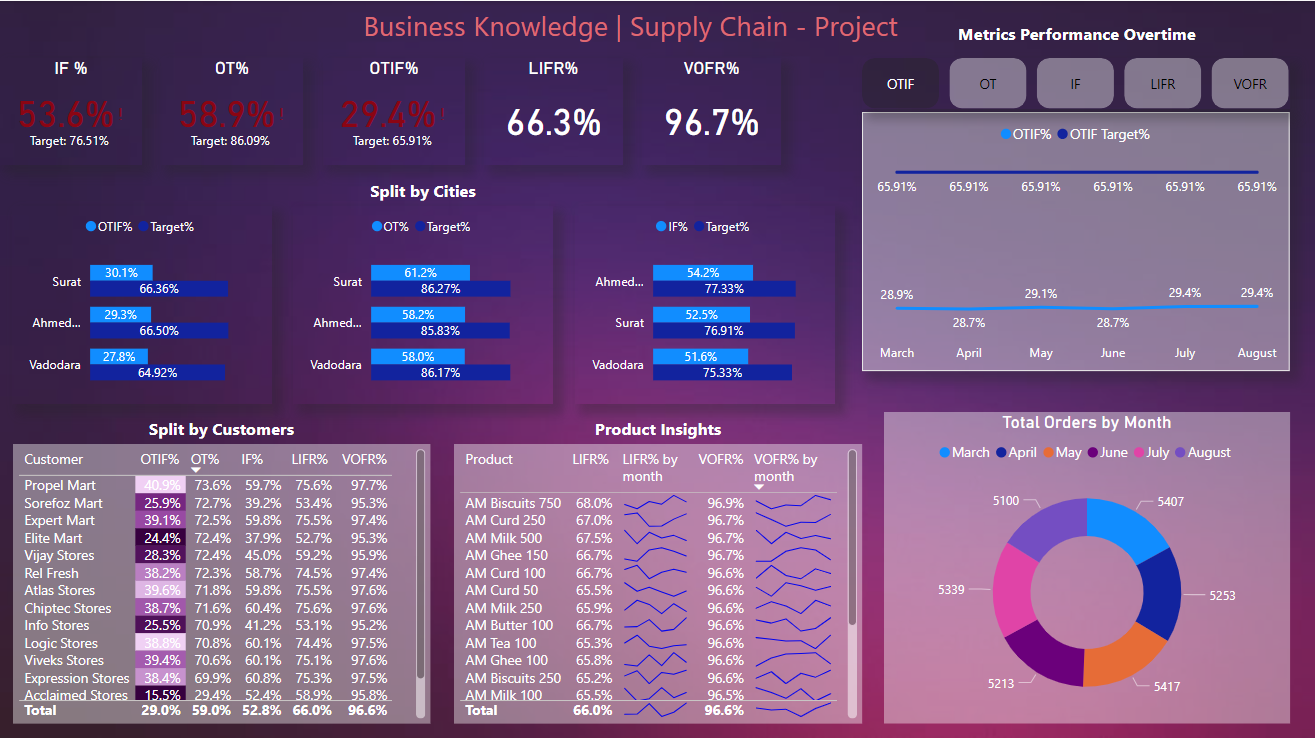

Layout of this report page (visuals, bound fields, positions):
{"tool":"powerbi","page":{"name":"Page 1","canvas":[1280,720],"ordinal":0},"visuals":[{"type":"kpi","title":"OT%","fields":{"Indicator":["Measure.OT%"],"Goal":["Measure.On Time Target"],"TrendLine":["dim_date.mmm_yy"]},"box":[156.8,55.4,138.1,104.1],"z":0},{"type":"kpi","title":"IF %","fields":{"Goal":["Measure.In Full Target"],"TrendLine":["dim_date.mmm_yy"],"Indicator":["Measure.IF%"]},"box":[0,55.4,138.1,104.1],"z":1000},{"type":"kpi","title":"OTIF%","fields":{"Goal":["Measure.On Time In Full Target"],"TrendLine":["dim_date.mmm_yy"],"Indicator":["Measure.OTIF%"]},"box":[313.7,55.4,138.1,104.1],"z":2000},{"type":"kpi","title":"LIFR%","fields":{"TrendLine":["dim_date.mmm_yy"],"Indicator":["Measure.LIFR%"]},"box":[470.5,55.4,135.2,104.1],"z":3000},{"type":"kpi","title":"VOFR%","fields":{"TrendLine":["dim_date.mmm_yy"],"Indicator":["Measure.VOFR%"]},"box":[624.4,55.4,135.2,104.1],"z":4000},{"type":"clusteredBarChart","fields":{"Category":["dim_customers.city"],"Y":["Measure.OTIF%","Measure.On Time In Full Target"]},"box":[11.7,199.4,252.9,192.6],"z":5000},{"type":"clusteredBarChart","fields":{"Category":["dim_customers.city"],"Y":["Measure.OT%","Measure.On Time Target"]},"box":[285,199.4,252.9,192.6],"z":6000},{"type":"clusteredBarChart","fields":{"Category":["dim_customers.city"],"Y":["Measure.IF%","Measure.In Full Target"]},"box":[559.3,199.4,252.9,192.6],"z":7000},{"type":"tableEx","fields":{"Values":["dim_customers.customer_name","Measure.OTIF%","Measure.OT%","Measure.IF%","Measure.LIFR%","Measure.VOFR%"]},"box":[12.6,430.9,405.6,272.3],"z":8000},{"type":"tableEx","fields":{"Values":["dim_products.product_name","Measure.LIFR%","SparklineData(Measure.LIFR%_[dim_date.mmm_yy])","Measure.VOFR%","SparklineData(Measure.VOFR%_[dim_date.mmm_yy])"]},"box":[441.6,430.9,396.8,272.3],"z":9000},{"type":"lineChart","fields":{"Category":["dim_date.mmm_yy.Variation.Date Hierarchy.Month"],"Y":["Measure.OTIF%","Measure.On Time In Full Target%"]},"box":[838.4,108,416.3,251.9],"z":10000},{"type":"bookmarkNavigator","box":[838.4,55.4,416.3,49.6],"z":15000},{"type":"textbox","box":[204.3,168.3,414.3,31.1],"z":16000},{"type":"textbox","box":[840.4,15.6,414.3,31.1],"z":17000},{"type":"textbox","box":[12.6,399.8,405.6,31.1],"z":18000},{"type":"textbox","box":[441.6,399.8,396.8,31.1],"z":19000},{"type":"donutChart","fields":{"Category":["dim_date.mmm_yy.Variation.Date Hierarchy.Month"],"Y":["Measure.Total Orders"]},"box":[859.8,399.8,394.9,303.5],"z":20000},{"type":"textbox","box":[12.6,0,1201.2,47.7],"z":21000}]}

Visuals, with their boxes in screenshot pixels (x1, y1, x2, y2), scaled from the page's 1280x720 canvas onto the 1315x738 screenshot:
"OT%" kpi: pyautogui.locateOnScreen(161, 57, 303, 163)
"IF %" kpi: pyautogui.locateOnScreen(0, 57, 142, 163)
"OTIF%" kpi: pyautogui.locateOnScreen(322, 57, 464, 163)
"LIFR%" kpi: pyautogui.locateOnScreen(483, 57, 622, 163)
"VOFR%" kpi: pyautogui.locateOnScreen(641, 57, 780, 163)
clusteredBarChart - dim_customers.city x Measure.OTIF%: pyautogui.locateOnScreen(12, 204, 272, 402)
clusteredBarChart - dim_customers.city x Measure.OT%: pyautogui.locateOnScreen(293, 204, 553, 402)
clusteredBarChart - dim_customers.city x Measure.IF%: pyautogui.locateOnScreen(575, 204, 834, 402)
tableEx - dim_customers.customer_name x Measure.OTIF%: pyautogui.locateOnScreen(13, 442, 430, 721)
tableEx - dim_products.product_name x Measure.LIFR%: pyautogui.locateOnScreen(454, 442, 861, 721)
lineChart - dim_date.mmm_yy.Variation.Date Hierarchy.Month x Measure.OTIF%: pyautogui.locateOnScreen(861, 111, 1289, 369)
bookmarkNavigator: pyautogui.locateOnScreen(861, 57, 1289, 108)
textbox: pyautogui.locateOnScreen(210, 173, 636, 204)
textbox: pyautogui.locateOnScreen(863, 16, 1289, 48)
textbox: pyautogui.locateOnScreen(13, 410, 430, 442)
textbox: pyautogui.locateOnScreen(454, 410, 861, 442)
donutChart - dim_date.mmm_yy.Variation.Date Hierarchy.Month x Measure.Total Orders: pyautogui.locateOnScreen(883, 410, 1289, 721)
textbox: pyautogui.locateOnScreen(13, 0, 1247, 49)
